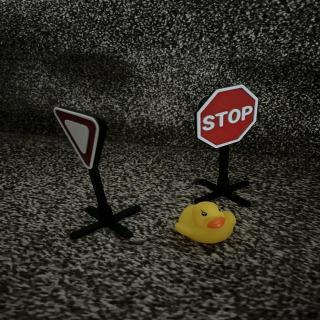duck_regular: (175, 203, 237, 246)
sign_stop: (198, 86, 260, 152)
sign_yield: (55, 108, 108, 172)
